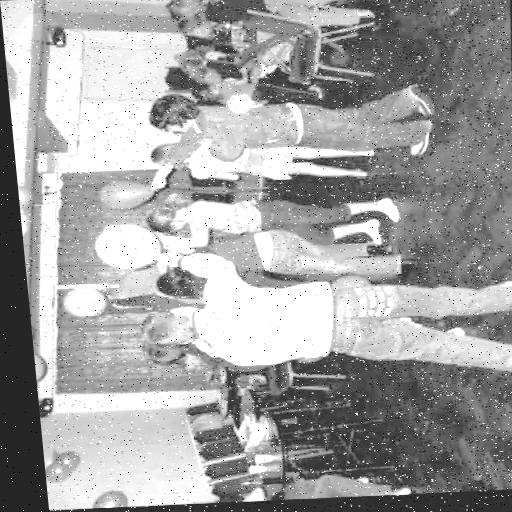balloon: (93, 218, 178, 274), (95, 168, 173, 214), (55, 276, 122, 322), (45, 458, 84, 488), (88, 488, 141, 510), (33, 347, 57, 394), (57, 448, 92, 474), (18, 180, 43, 216), (30, 311, 44, 351)
